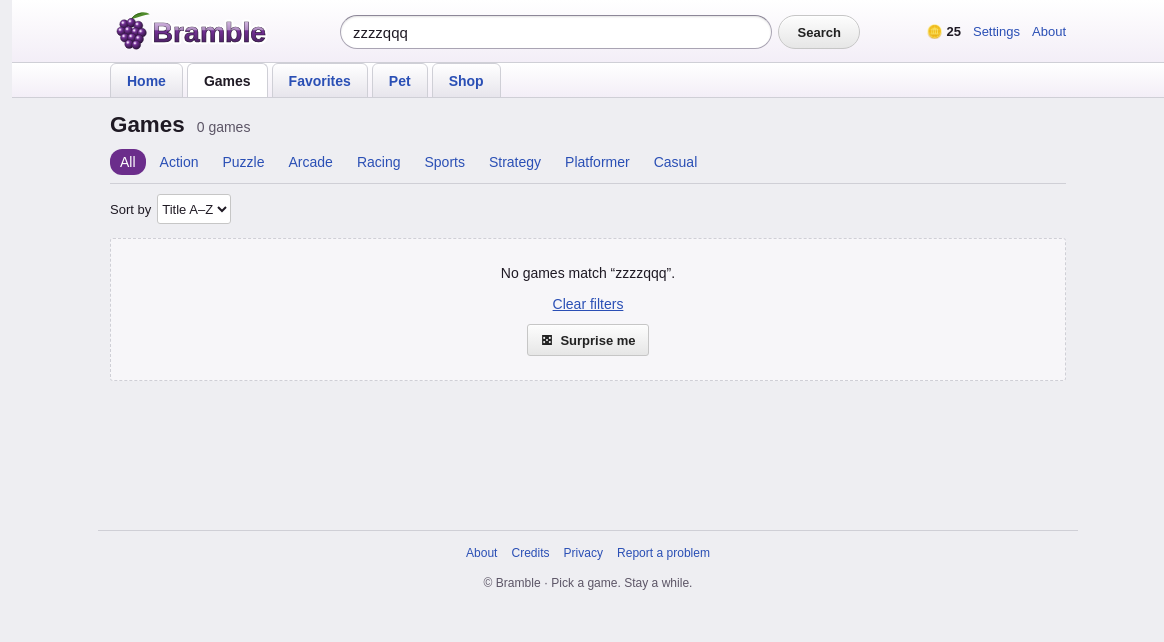
Test case: LibraryPage › nonsense query shows empty state with "Clear filters" link that restores all
Expected: the text "No games match “zzzzqqq”." is shown, left=501, top=266, right=675, bottom=282
Click the link "Clear filters" at (588, 304), box left=553, top=296, right=623, bottom=312
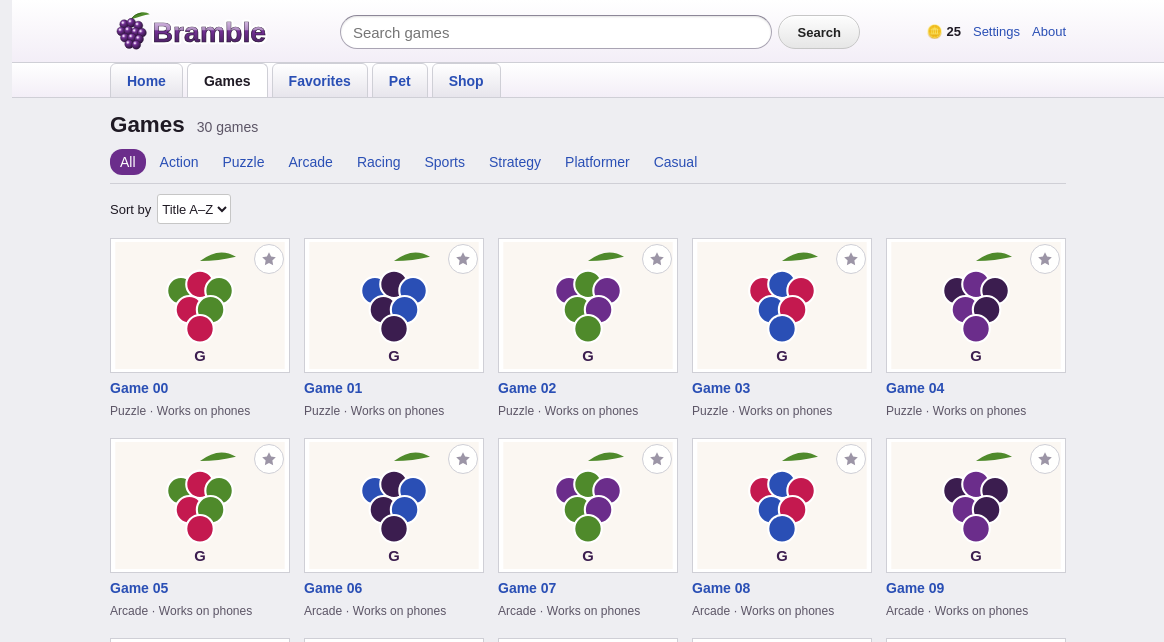
Result: the search field labelled "Search games" is empty at left=340, top=15, right=772, bottom=49
